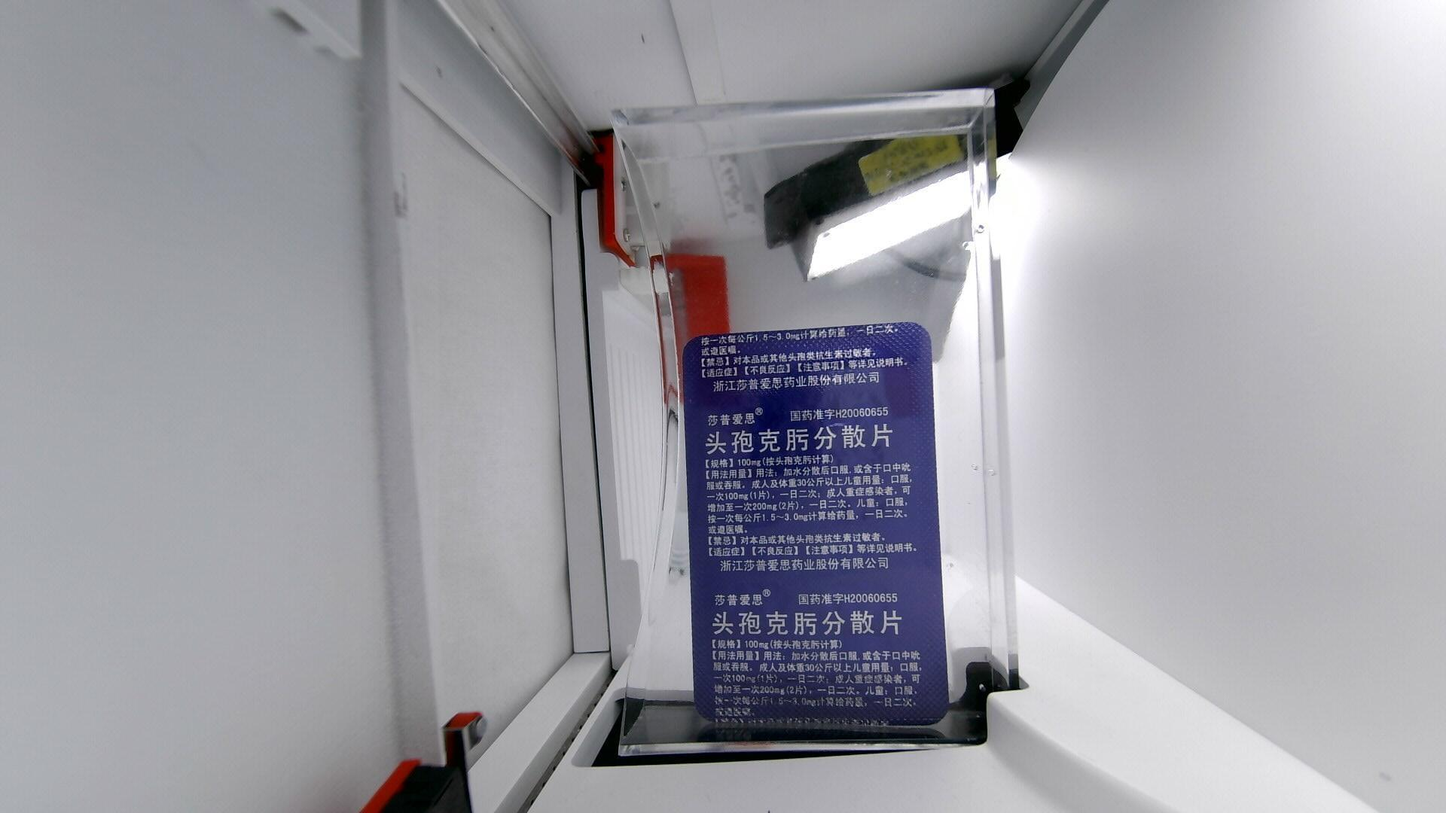Pill Back: (817, 634, 903, 672), (822, 584, 895, 624), (814, 486, 887, 522), (719, 592, 795, 626), (722, 498, 788, 535), (721, 642, 802, 672), (819, 535, 883, 570), (813, 395, 879, 427), (816, 446, 884, 477), (721, 544, 790, 574), (721, 446, 782, 479), (719, 397, 778, 431)
